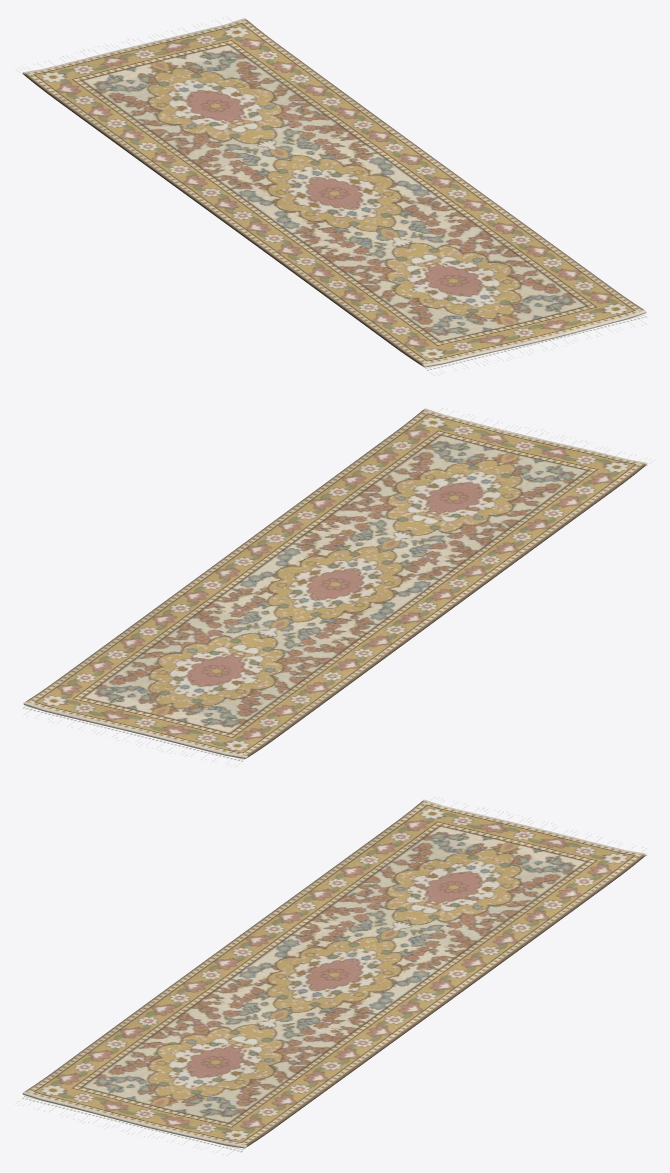
File: rug-tabriz-runner.lite.3d2d410c.glb
3 views of the same model, one above another, from view 1: azimuth 30°, elevation 25°; view 2: azimuth 150°, elevation 25°; view 3: azimuth 330°, elevation 25° (orthographic).
Parts seen in each view (by area): view 1: rug-tabriz-runner, rug-tabriz-runner-fringe; view 2: rug-tabriz-runner, rug-tabriz-runner-fringe; view 3: rug-tabriz-runner, rug-tabriz-runner-fringe.
Boxes of the visible parts, x1=… form: rug-tabriz-runner: x1=22, y1=18, x2=646, y2=367; rug-tabriz-runner-fringe: x1=16, y1=17, x2=646, y2=376; rug-tabriz-runner: x1=23, y1=408, x2=647, y2=758; rug-tabriz-runner-fringe: x1=23, y1=408, x2=653, y2=766; rug-tabriz-runner: x1=22, y1=799, x2=646, y2=1148; rug-tabriz-runner-fringe: x1=16, y1=796, x2=647, y2=1155.
Bounding box in the file's own units: 0.8 × 0.0176 × 2.66.
Materials: 2 (2 with a texture image).
